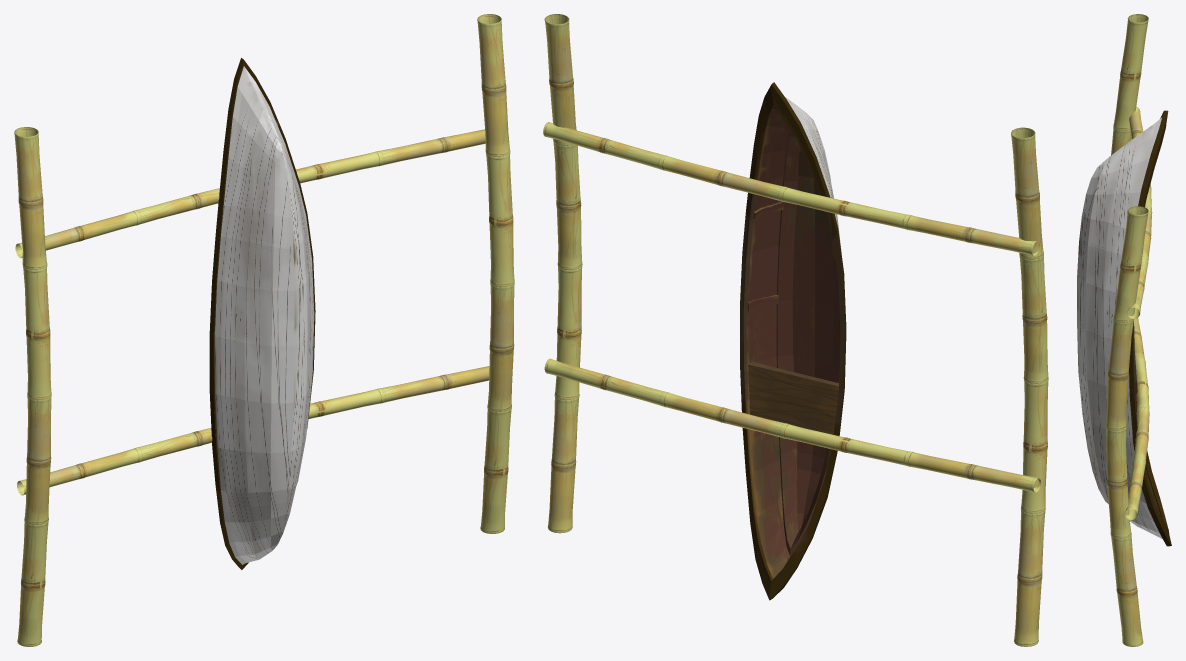
Rendered from Boat.fbx.
3 renders of one model, left to right at view 1: azimuth 30°, elevation 25°; view 2: azimuth 150°, elevation 25°; view 3: azimuth 270°, elevation 25°, orthographic. The views are drawn at different scales.
Parts seen in each view (by area): view 1: Boat, Bamboo Balancer; view 2: Bamboo Balancer, Boat; view 3: Boat, Bamboo Balancer.
Part boxes in pixels (x1,y1,x2,y2): Boat: (209, 58, 315, 569); Bamboo Balancer: (14, 14, 514, 646); Bamboo Balancer: (543, 14, 1048, 646); Boat: (740, 82, 846, 600); Boat: (1077, 110, 1171, 546); Bamboo Balancer: (1105, 14, 1152, 646).
Size of the model in its own units: 63.58 by 320 by 322.
